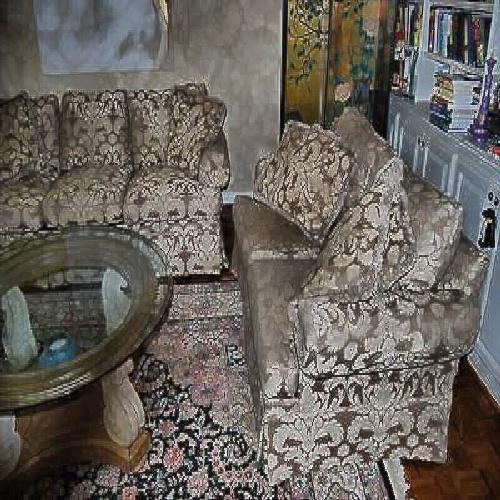sofa: (233, 131, 465, 460), (12, 98, 252, 275)
